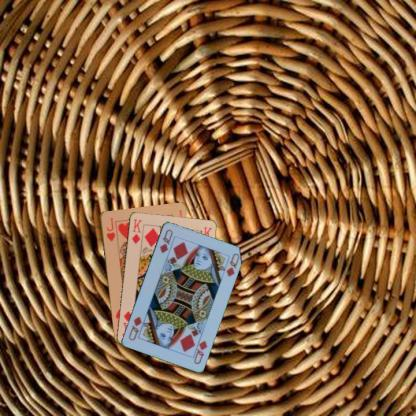Jh: (104, 215, 116, 242)
Kd: (129, 216, 143, 245)
Qd: (190, 334, 209, 365), (156, 227, 174, 254)
